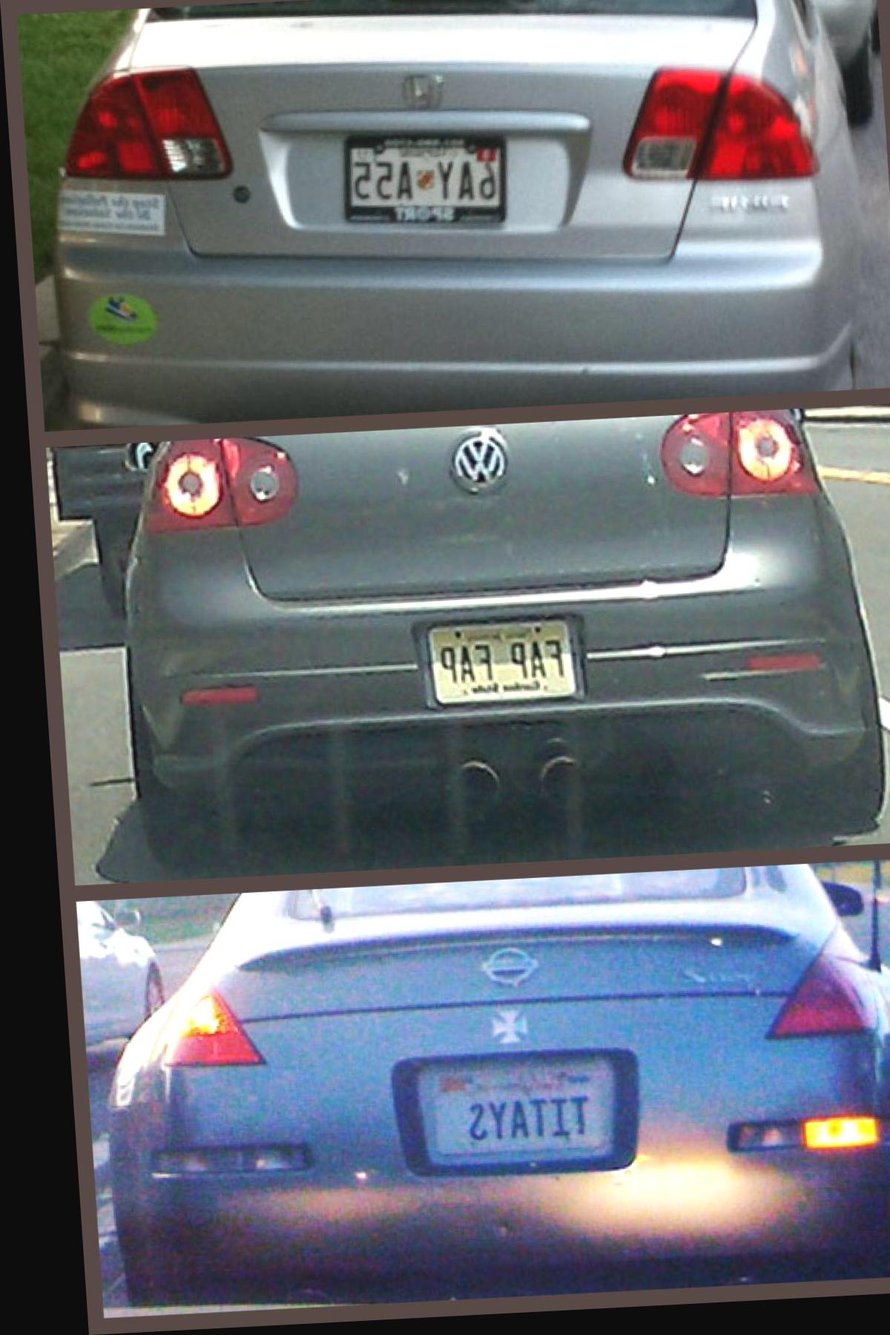License_Plate: (416, 1042, 621, 1184), (326, 109, 527, 245), (409, 595, 596, 728)
